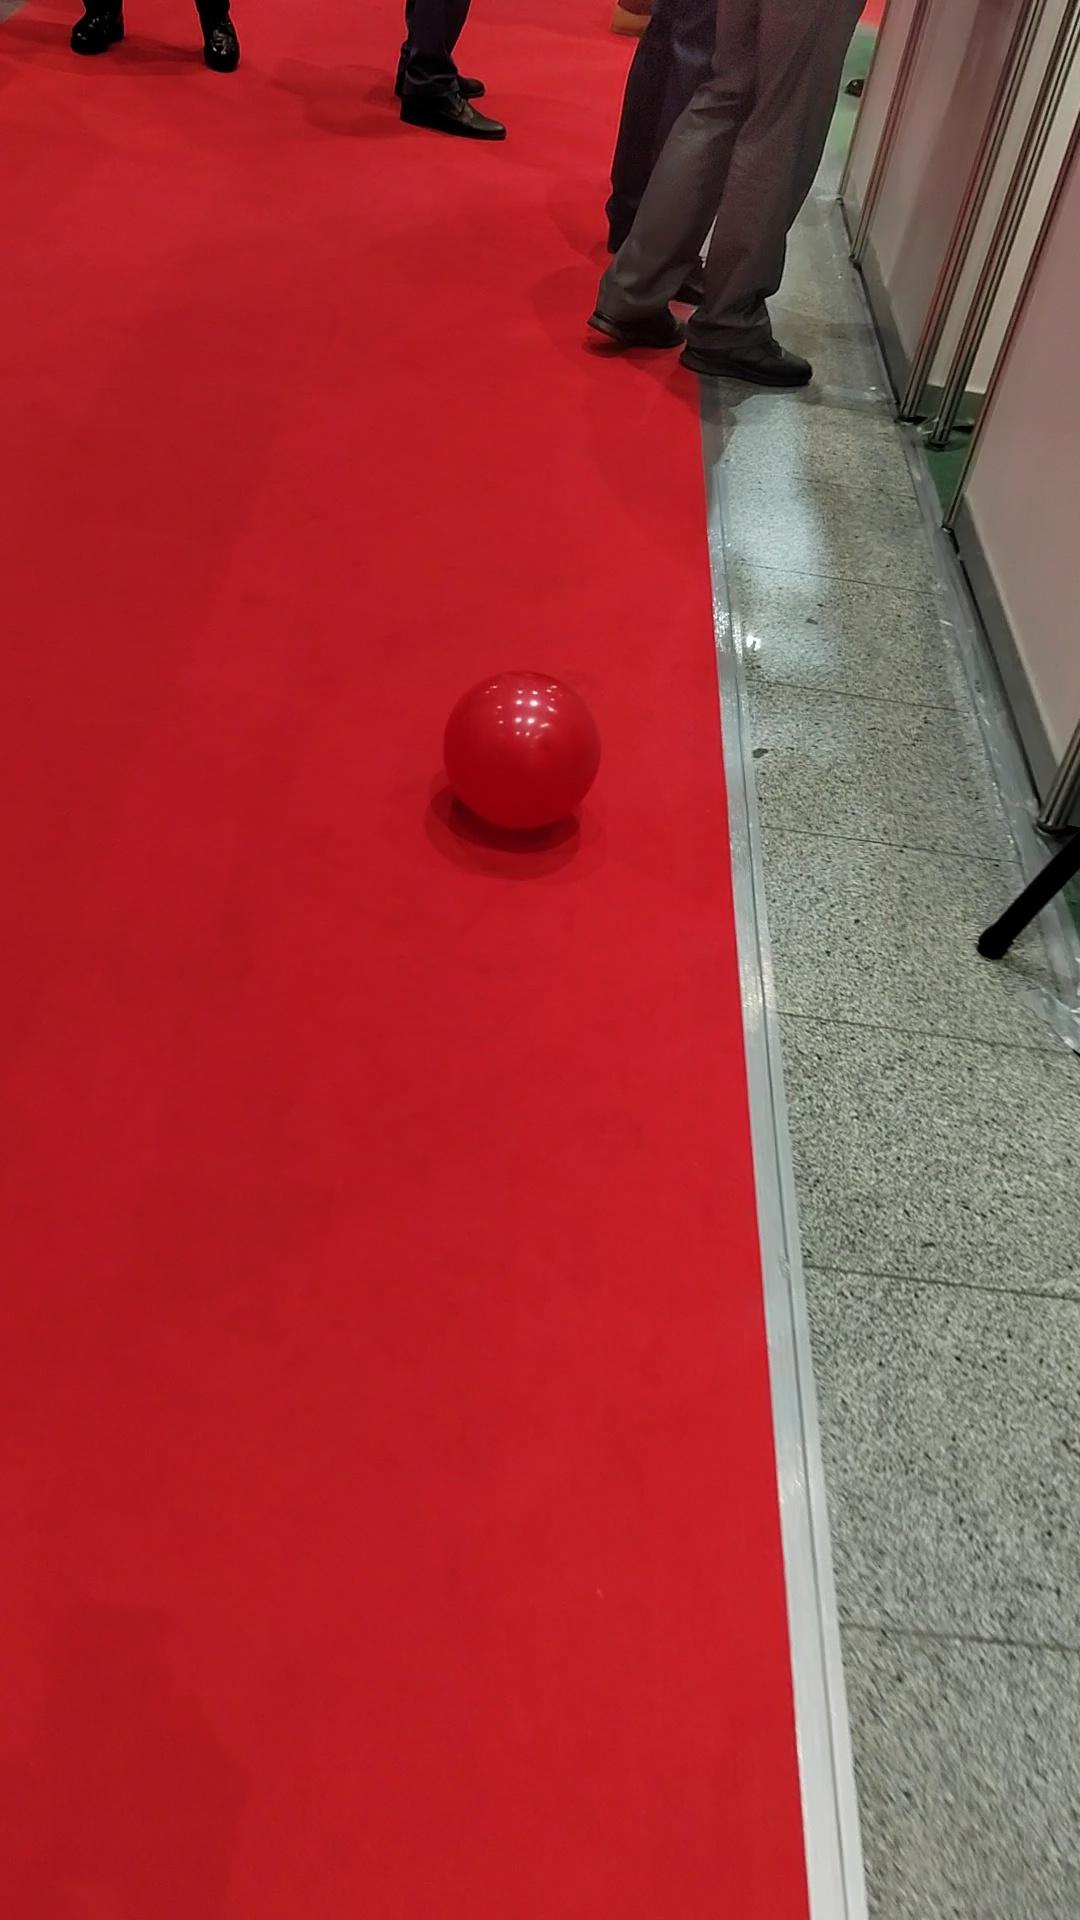red: (440, 673, 601, 833)
